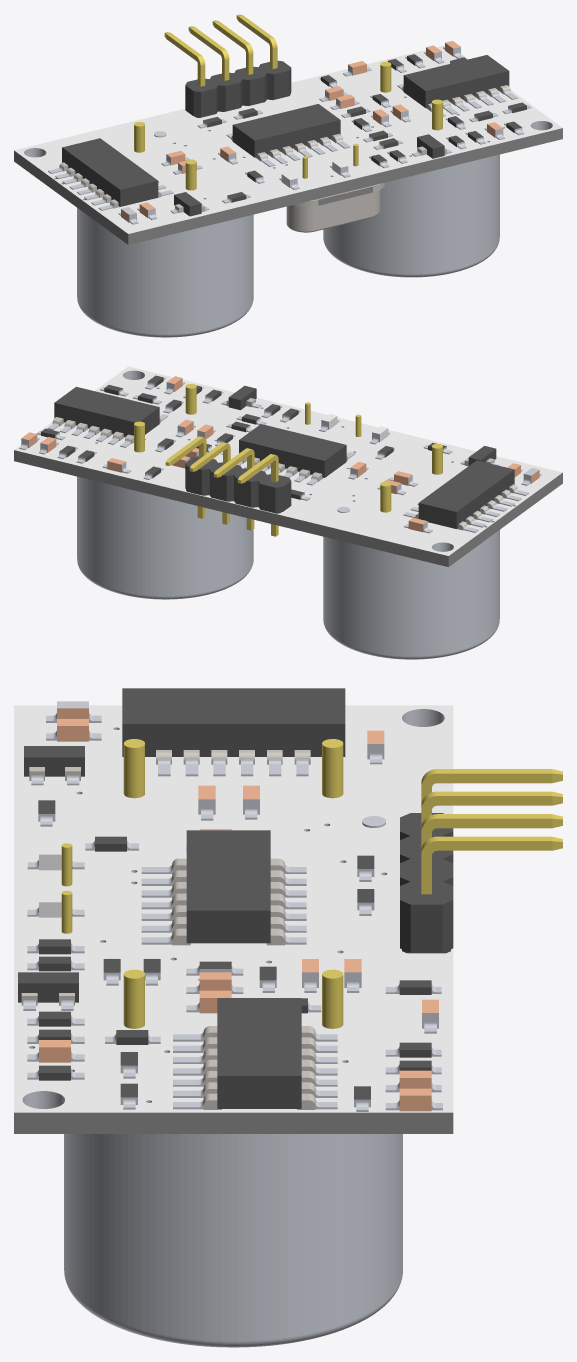
The model's file is proximity_sensor.fbx.
3 renders of one model, top to bottom at view 1: azimuth 30°, elevation 25°; view 2: azimuth 150°, elevation 25°; view 3: azimuth 270°, elevation 25°, orthographic. The views are drawn at different scales.
Parts seen in each view (by area): view 1: imagetostl_mesh7, imagetostl_mesh0, imagetostl_mesh8, imagetostl_mesh1, imagetostl_mesh6, imagetostl_mesh2, imagetostl_mesh3, imagetostl_mesh4; view 2: imagetostl_mesh7, imagetostl_mesh0, imagetostl_mesh1, imagetostl_mesh8, imagetostl_mesh6, imagetostl_mesh3, imagetostl_mesh4, imagetostl_mesh2; view 3: imagetostl_mesh7, imagetostl_mesh0, imagetostl_mesh8, imagetostl_mesh3, imagetostl_mesh1, imagetostl_mesh6, imagetostl_mesh2, imagetostl_mesh4.
Part boxes in pixels (x1,y1,x2,y2): imagetostl_mesh7: [14, 45, 562, 233]; imagetostl_mesh0: [48, 47, 531, 337]; imagetostl_mesh8: [62, 54, 526, 216]; imagetostl_mesh1: [24, 51, 552, 328]; imagetostl_mesh6: [14, 128, 562, 244]; imagetostl_mesh2: [59, 85, 510, 232]; imagetostl_mesh3: [134, 14, 442, 190]; imagetostl_mesh4: [121, 41, 502, 222]; imagetostl_mesh7: [14, 366, 562, 555]; imagetostl_mesh0: [19, 377, 540, 659]; imagetostl_mesh1: [21, 370, 541, 651]; imagetostl_mesh8: [41, 375, 514, 528]; imagetostl_mesh6: [14, 450, 562, 566]; imagetostl_mesh3: [134, 384, 442, 536]; imagetostl_mesh4: [21, 376, 539, 532]; imagetostl_mesh2: [52, 398, 517, 530]; imagetostl_mesh7: [14, 705, 453, 1112]; imagetostl_mesh0: [23, 715, 442, 1341]; imagetostl_mesh8: [18, 688, 453, 1108]; imagetostl_mesh3: [61, 739, 562, 1028]; imagetostl_mesh1: [22, 701, 444, 1347]; imagetostl_mesh6: [14, 1112, 453, 1133]; imagetostl_mesh2: [21, 750, 315, 1109]; imagetostl_mesh4: [39, 708, 438, 1111].
Size of the model in its own units: 4520 by 1855 by 2575.
